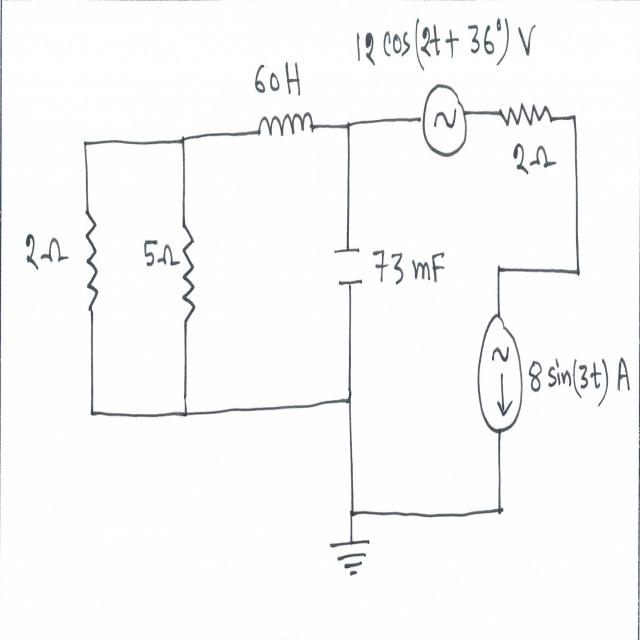ac_current: (420, 72, 470, 164)
capacitor: (331, 244, 365, 289)
current_source: (474, 307, 528, 442)
ground: (331, 538, 372, 582)
inductor: (251, 106, 319, 145)
resistor: (496, 90, 557, 142), (80, 200, 104, 319), (179, 214, 198, 330)
